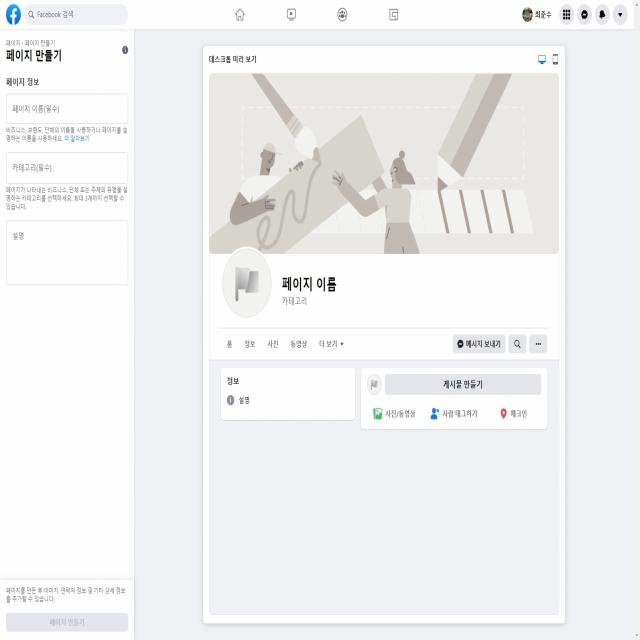menu-bar: (516, 1, 630, 28)
search: (22, 0, 129, 28)
